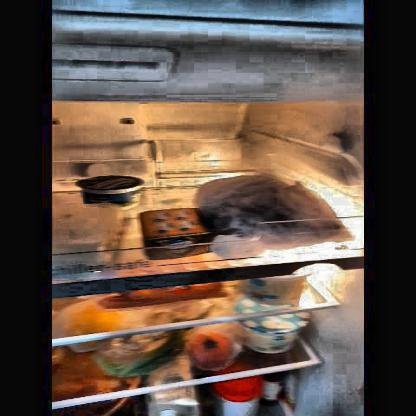butter: (140, 208, 212, 254)
carrot: (112, 285, 223, 310)
cheese: (55, 208, 122, 266)
green_chillies: (100, 341, 184, 378)
lemon: (63, 308, 120, 347)
tomato: (190, 334, 234, 366)
yoghurt: (237, 309, 306, 351), (80, 175, 143, 204), (242, 277, 307, 305)
